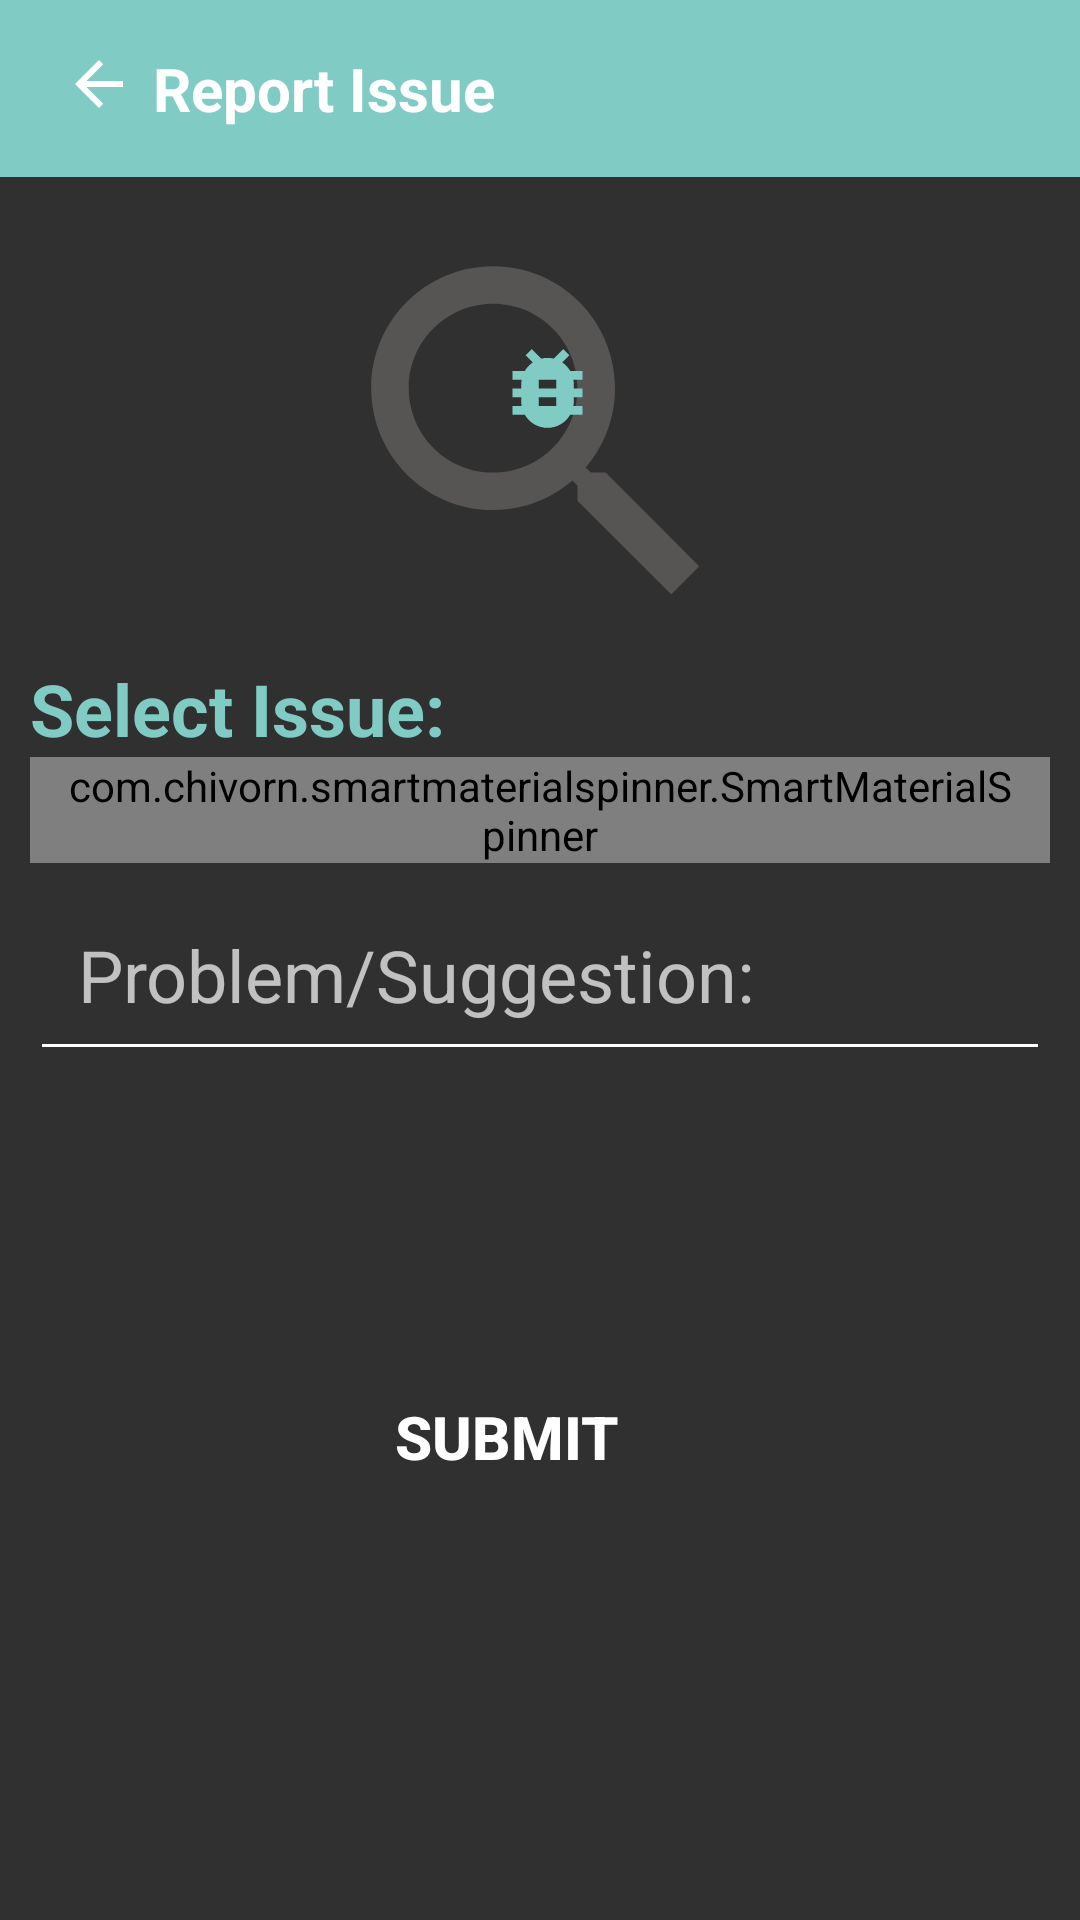

Where to tap for icons on this 1080 × 1920 app screen, as point (x, y):
arrow back: point (99, 84)
